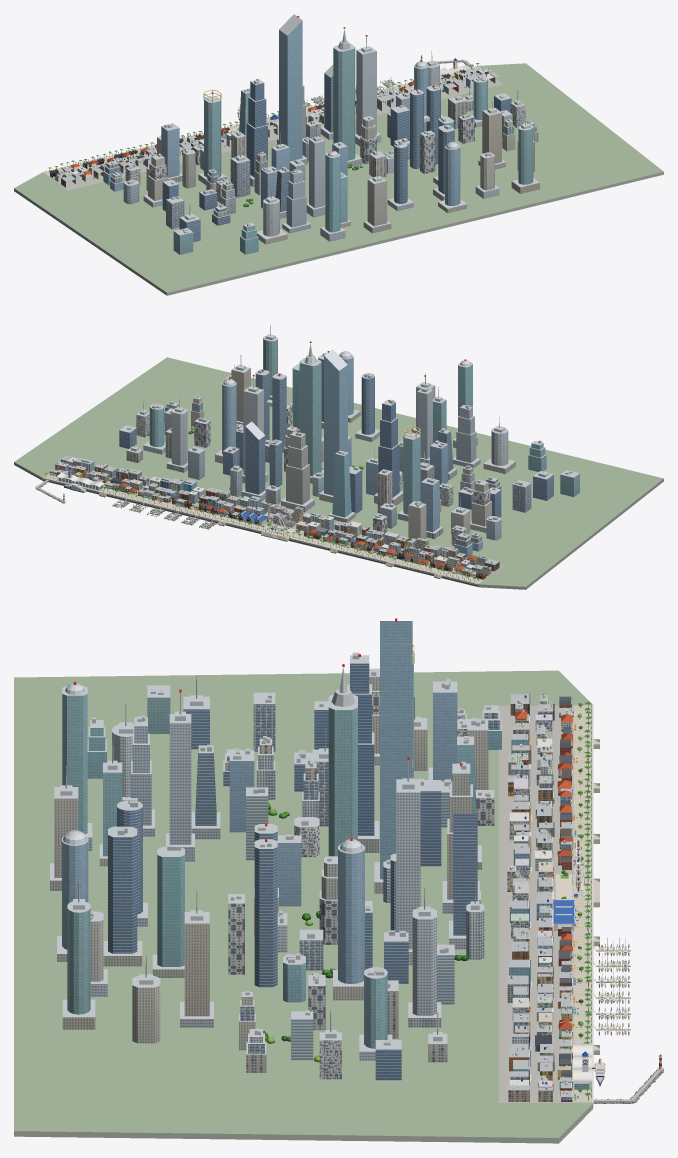
The model's file is aiquiz_menu_city.glb.
3 renders of one model, top to bottom at view 1: azimuth 30°, elevation 25°; view 2: azimuth 150°, elevation 25°; view 3: azimuth 270°, elevation 25°, orthographic. The views are drawn at different scales.
Visible parts, largest first — view 1: AMS_City, AMS_CityWaterfront, AMS_CityPromenade; view 2: AMS_City, AMS_CityWaterfront, AMS_CityPromenade, AMS_CityQuay, AMS_CityBoats; view 3: AMS_City, AMS_CityWaterfront, AMS_CityPromenade, AMS_CityQuay, AMS_CityBoats.
Part boxes in pixels (x1,y1,x2,y2): AMS_City: [14, 14, 663, 295]; AMS_CityWaterfront: [50, 58, 499, 187]; AMS_CityPromenade: [44, 63, 502, 190]; AMS_City: [14, 324, 663, 589]; AMS_CityWaterfront: [49, 455, 499, 579]; AMS_CityPromenade: [43, 466, 502, 583]; AMS_CityQuay: [35, 478, 478, 586]; AMS_CityBoats: [64, 483, 216, 528]; AMS_City: [14, 618, 592, 1143]; AMS_CityWaterfront: [507, 693, 595, 1101]; AMS_CityPromenade: [498, 701, 592, 1102]; AMS_CityQuay: [592, 705, 663, 1107]; AMS_CityBoats: [594, 938, 627, 1086].
Size of the model in its own units: 1360 by 376 by 799.
Materials: 17 (15 with a texture image).
